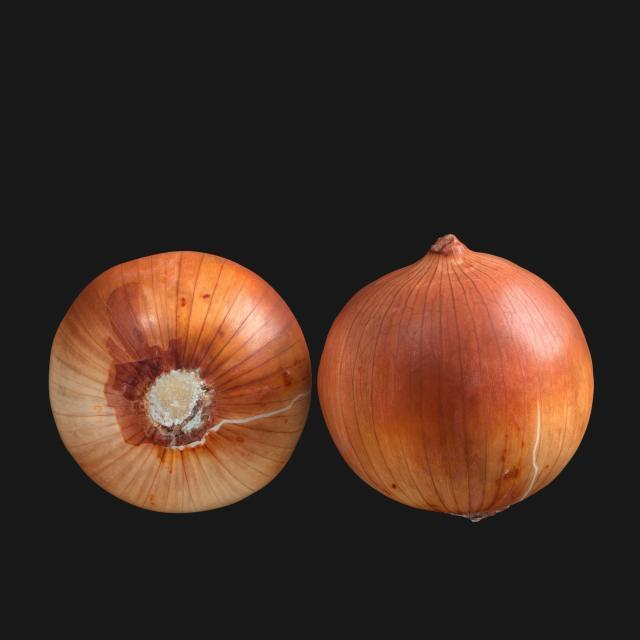onion: (322, 234, 598, 522), (46, 250, 318, 517)
